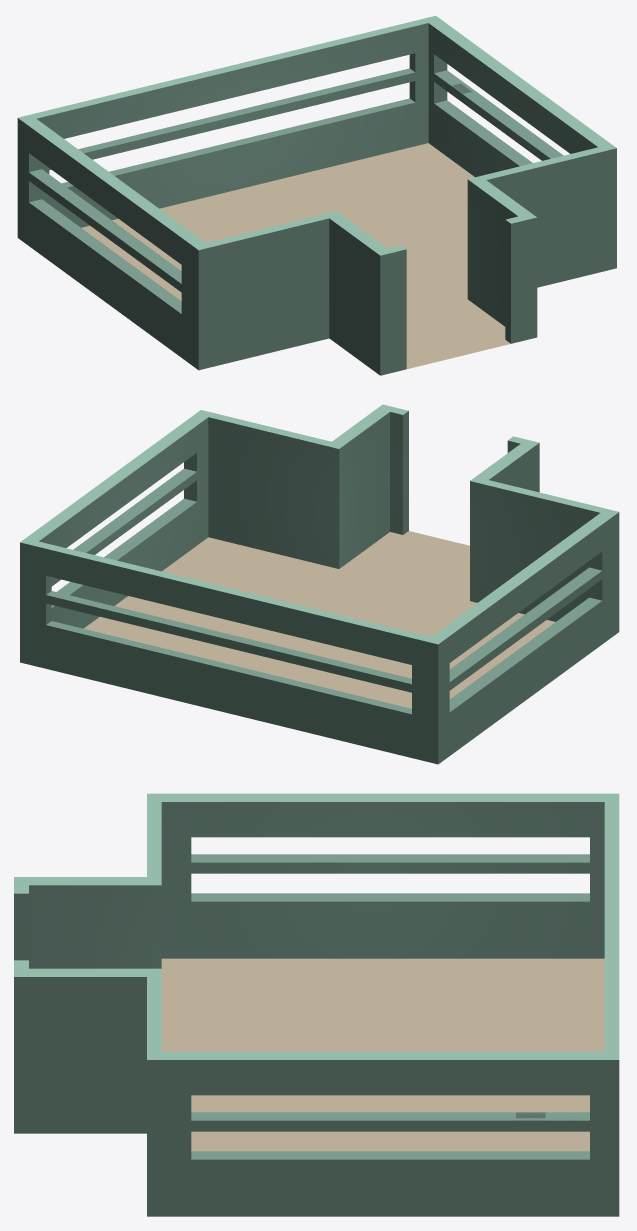
File: museum_minimal.gltf
3 views of the same model, one above another, from view 1: azimuth 30°, elevation 25°; view 2: azimuth 150°, elevation 25°; view 3: azimuth 270°, elevation 25° (orthographic). The views are drawn at different scales.
Visible parts, largest first — view 1: Plane; view 2: Plane; view 3: Plane.
Boxes of the visible parts, left/top/right/bottom form: Plane: left=17, top=15, right=616, bottom=375; Plane: left=20, top=404, right=619, bottom=764; Plane: left=14, top=793, right=619, bottom=1216.
Size of the model in its own units: 29.81 by 8.04 by 28.34.
4 materials, 2 textured.
